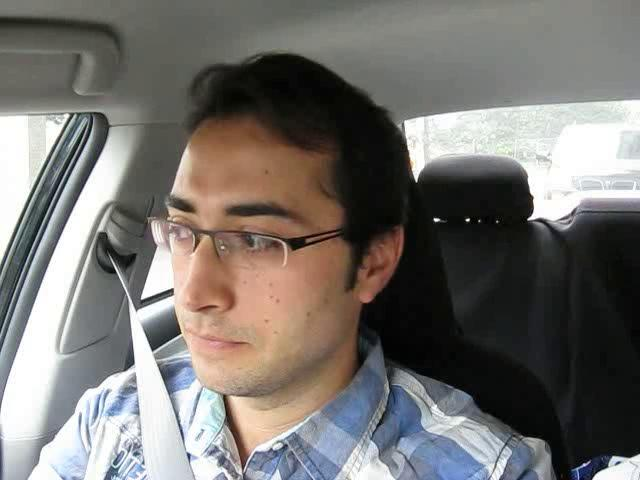no_yawn: (177, 320, 259, 362)
open_eyeL: (151, 214, 197, 257)
open_eyeR: (223, 219, 296, 268)
